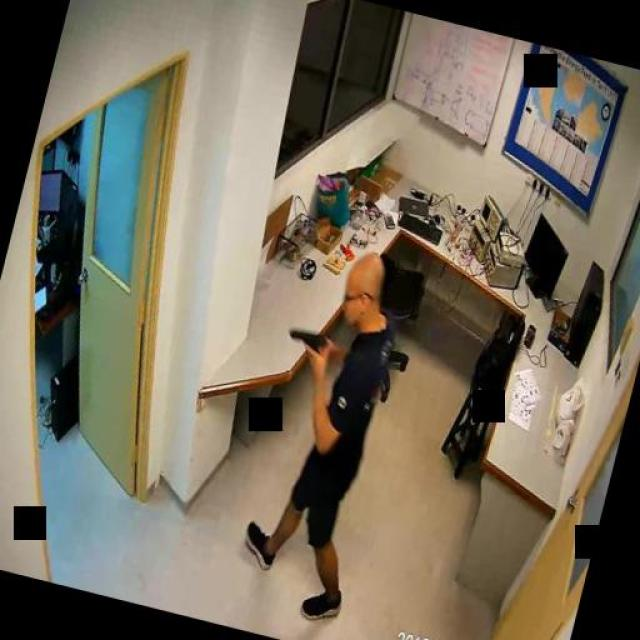gun: (280, 314, 336, 362)
